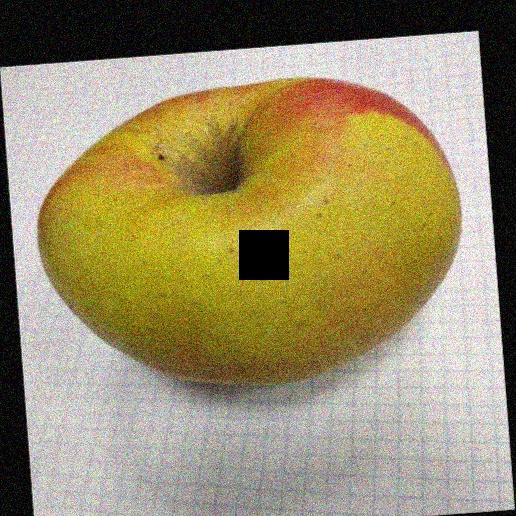green apple: (48, 79, 469, 399)
